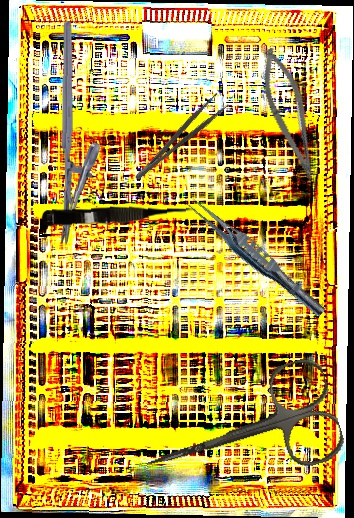Dressing Forceps: (126, 91, 231, 183)
Iris Scissors: (130, 354, 349, 512)
Micro Scissor: (249, 43, 333, 186), (40, 201, 199, 231)
Needle Holder: (58, 21, 104, 246)
Tissue Forceps: (181, 193, 332, 321)
